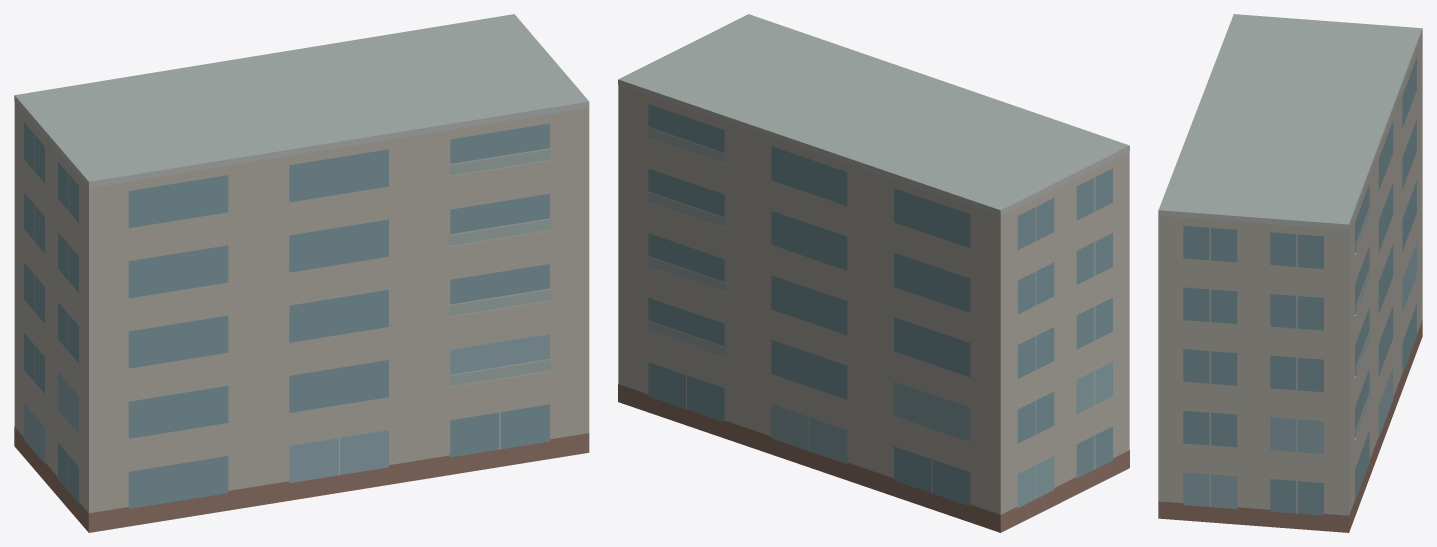
The model's file is survey-upis-32847896.glb.
3 views of the same model, side by side, from view 1: azimuth 30°, elevation 25°; view 2: azimuth 150°, elevation 25°; view 3: azimuth 270°, elevation 25° (orthographic). The views are drawn at different scales.
Visible parts, largest first — view 1: survey-upis-32847896.tmp; view 2: survey-upis-32847896.tmp; view 3: survey-upis-32847896.tmp.
Boxes of the visible parts, x1=… form: survey-upis-32847896.tmp: x1=14, y1=14, x2=589, y2=532; survey-upis-32847896.tmp: x1=618, y1=14, x2=1129, y2=532; survey-upis-32847896.tmp: x1=1158, y1=14, x2=1422, y2=532.
Size of the model in its own units: 20.36 by 13.9 by 10.8.
